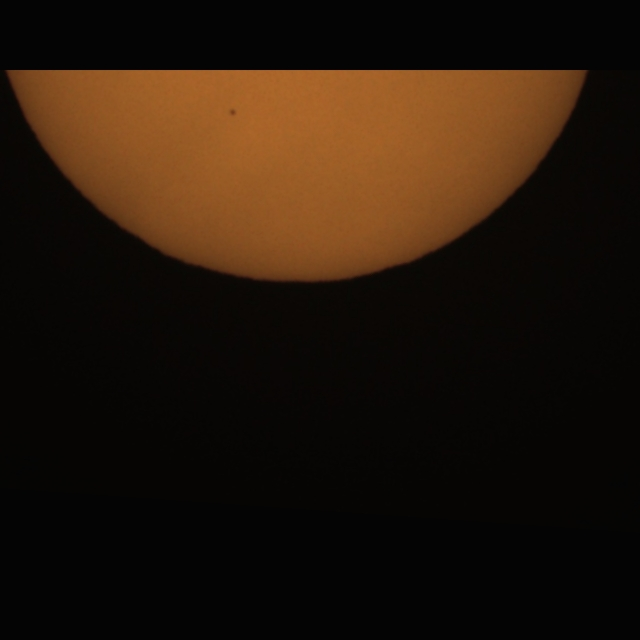sunspot: (228, 107, 237, 118)
